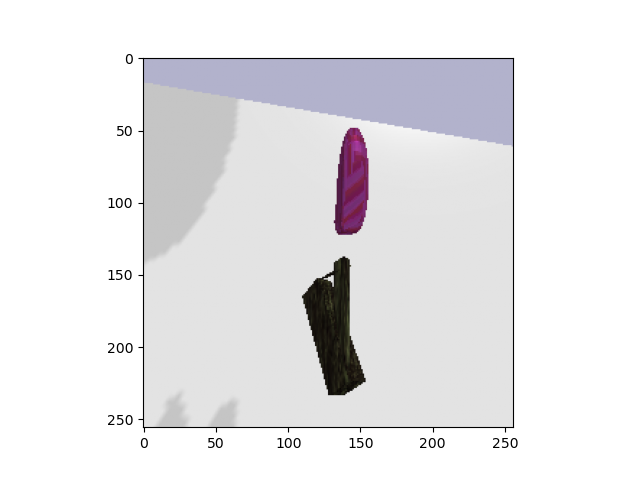v249b387_105: (329, 124, 375, 245)
v249b387_109: (299, 253, 371, 398)
